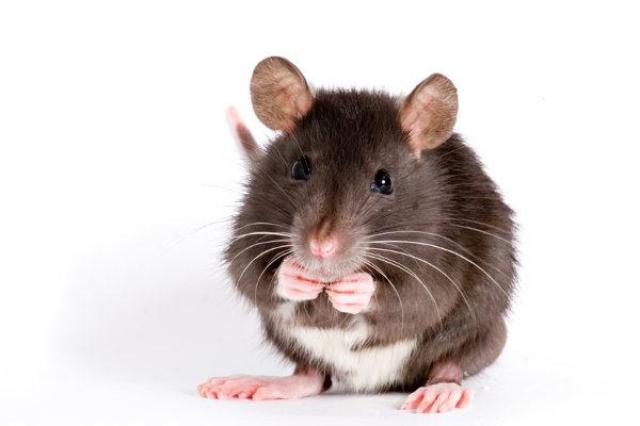rat: (191, 53, 519, 416)
